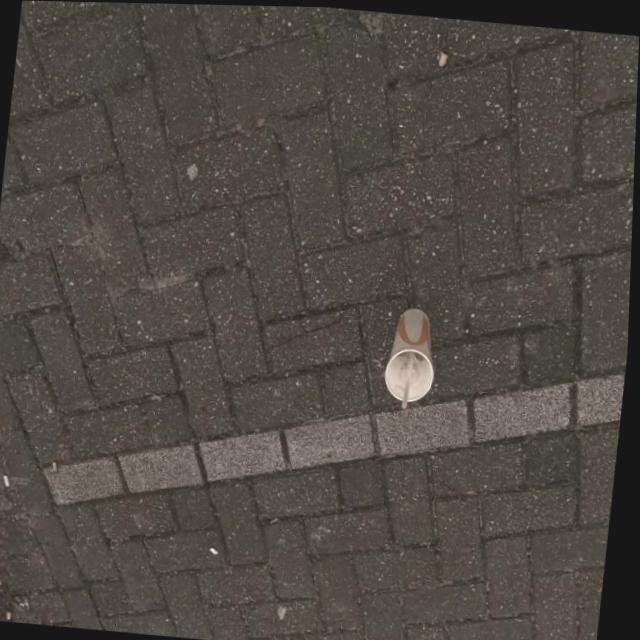Cup: (383, 301, 440, 407)
